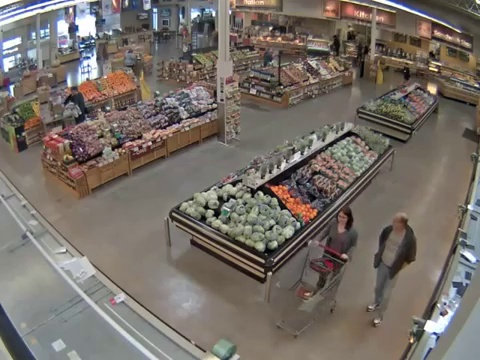face: (336, 210, 352, 223), (390, 218, 404, 231)
